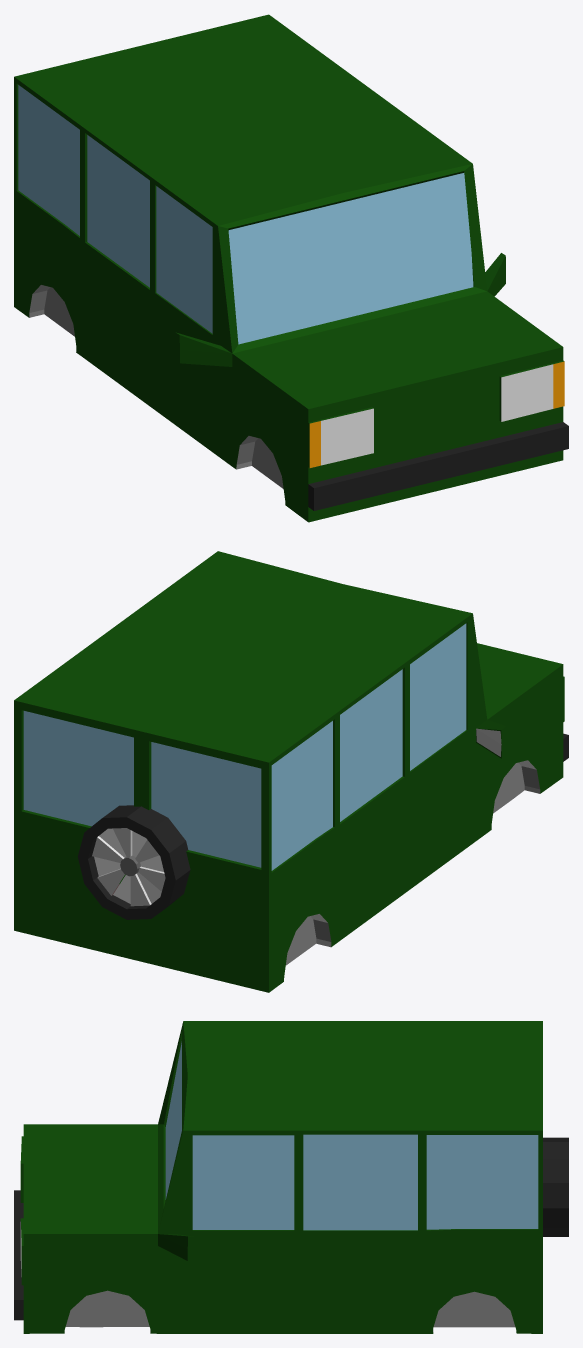
File: green_jeep.glb
The picture shows the model from 3 angles, top to bottom: view 1: azimuth 30°, elevation 25°; view 2: azimuth 150°, elevation 25°; view 3: azimuth 270°, elevation 25°; orthographic projection. The views are drawn at different scales.
Visible parts, largest first — view 1: GreenJeep; view 2: GreenJeep; view 3: GreenJeep.
Boxes of the visible parts, box(x1,y1,x2,y2) form: GreenJeep: box(14, 14, 568, 522); GreenJeep: box(14, 551, 568, 992); GreenJeep: box(14, 1021, 568, 1333).
Bounding box in the file's own units: 2.56 × 1.73 × 4.28.
Materials: 3 (3 with a texture image).
